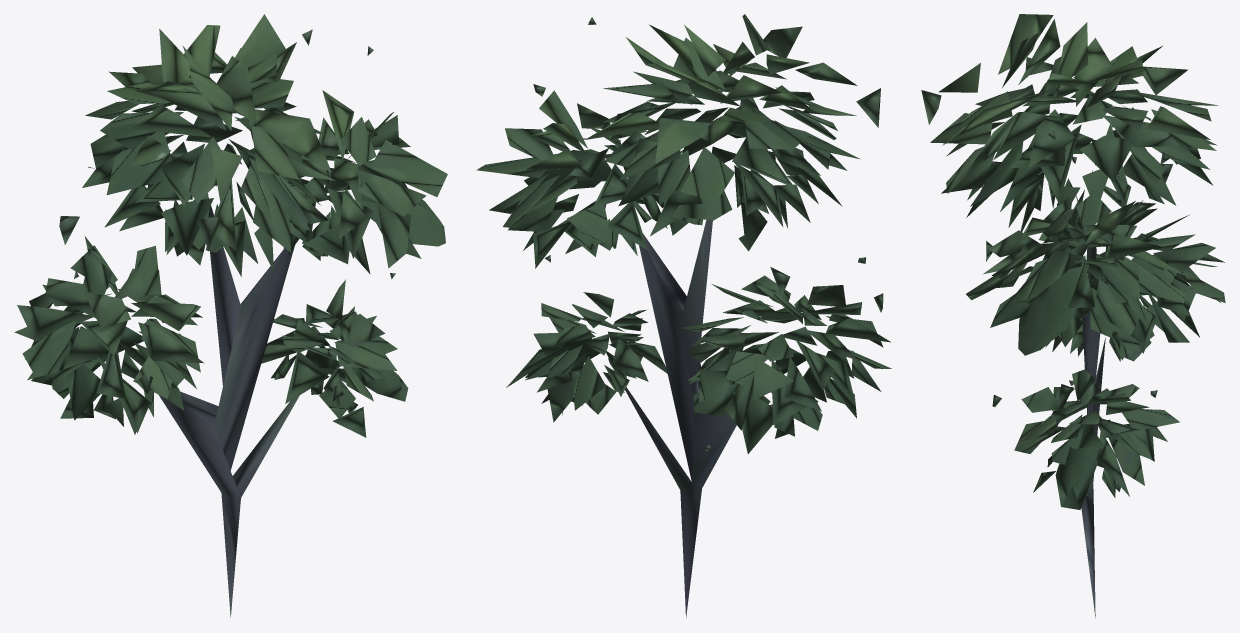
Rendered from jt-vert-semis.glb.
3 views of the same model, side by side, from view 1: azimuth 30°, elevation 25°; view 2: azimuth 150°, elevation 25°; view 3: azimuth 270°, elevation 25° (orthographic). The views are drawn at different scales.
Parts seen in each view (by area): view 1: jt-vert-semis; view 2: jt-vert-semis; view 3: jt-vert-semis.
Part boxes in pixels (<box>): jt-vert-semis: <box>14,14,447,617</box>; jt-vert-semis: <box>476,14,891,617</box>; jt-vert-semis: <box>921,14,1225,617</box>.
Bounding box in the file's own units: 1.36 × 1.96 × 0.9425.
Materials: 1 (1 with a texture image).
